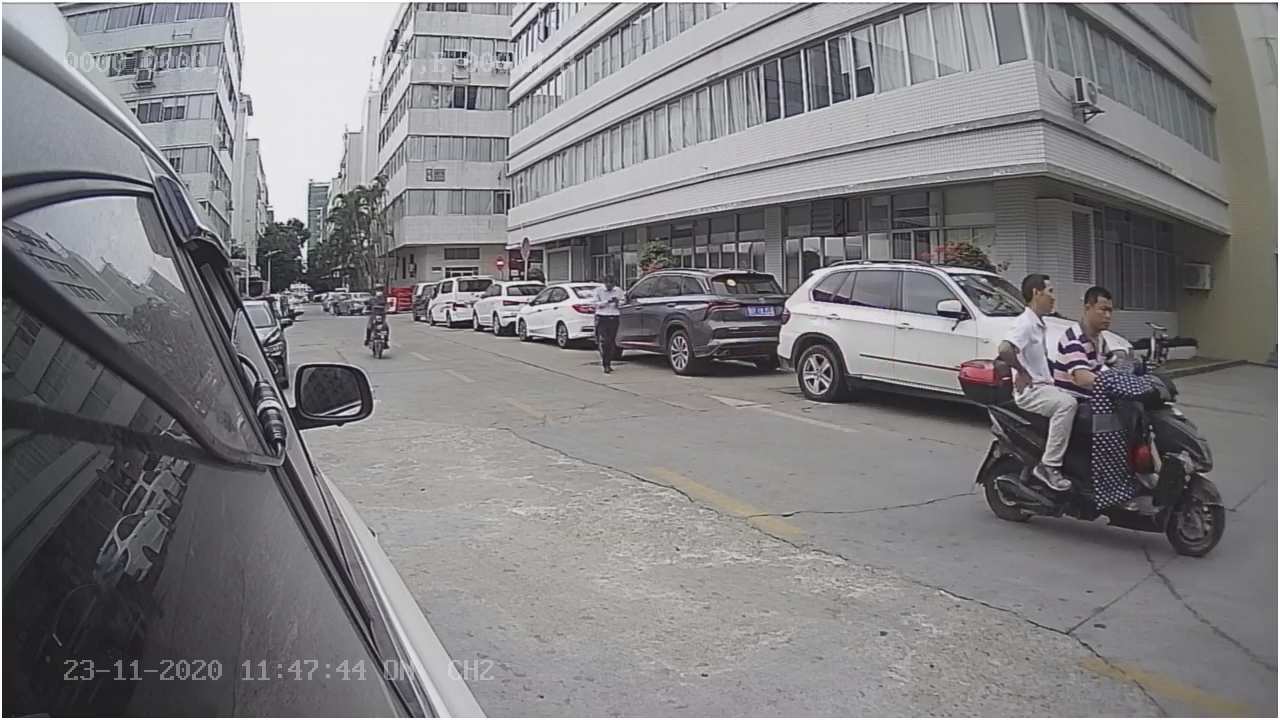person: (1056, 286, 1125, 389)
